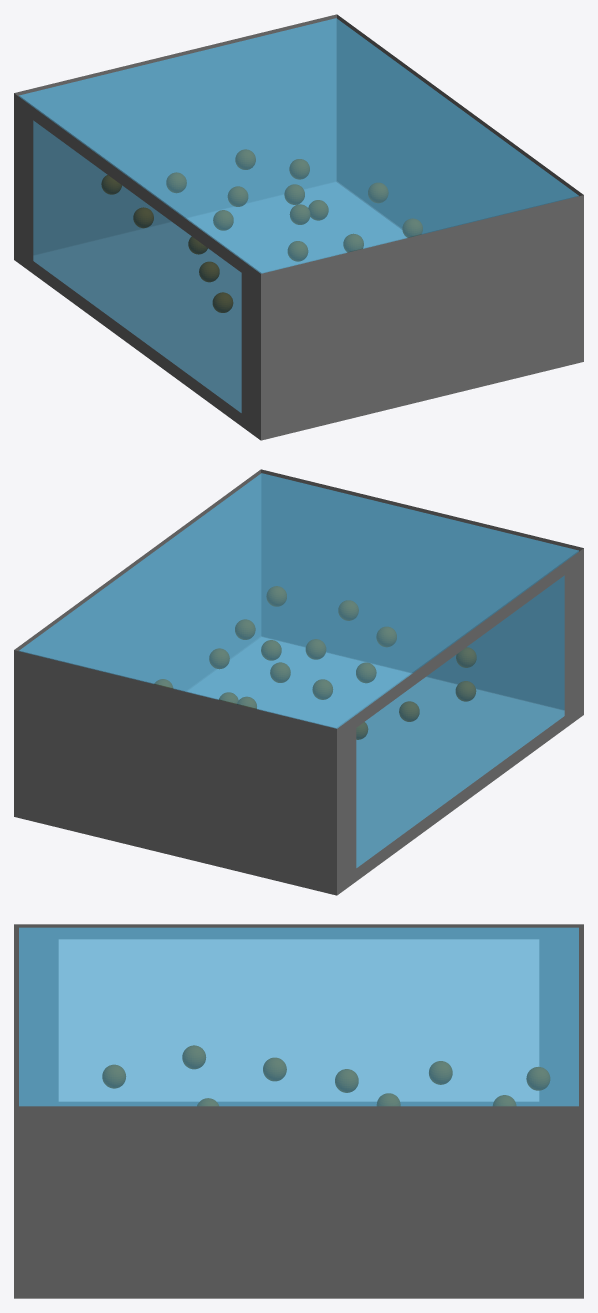
The model's file is Koagulasi.glb.
3 views of the same model, one above another, from view 1: azimuth 30°, elevation 25°; view 2: azimuth 150°, elevation 25°; view 3: azimuth 270°, elevation 25° (orthographic). The views are drawn at different scales.
Parts seen in each view (by area): view 1: Cube.001, Cube; view 2: Cube.001, Cube; view 3: Cube.001, Cube.
Boxes of the visible parts, <box> form: Cube.001: <box>14,14,583,440</box>; Cube: <box>19,18,578,412</box>; Cube.001: <box>14,469,583,895</box>; Cube: <box>19,473,578,867</box>; Cube.001: <box>14,924,583,1298</box>; Cube: <box>19,927,578,1106</box>.
Bounding box in the file's own units: 5.99 × 2.95 × 7.92.
